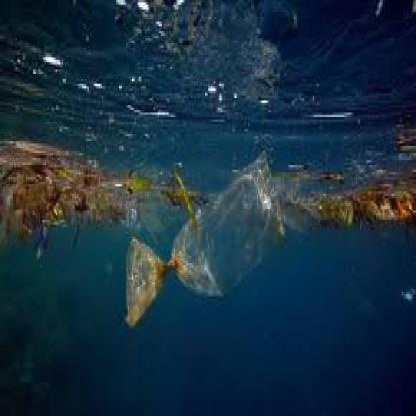pbag: (120, 146, 288, 335)
